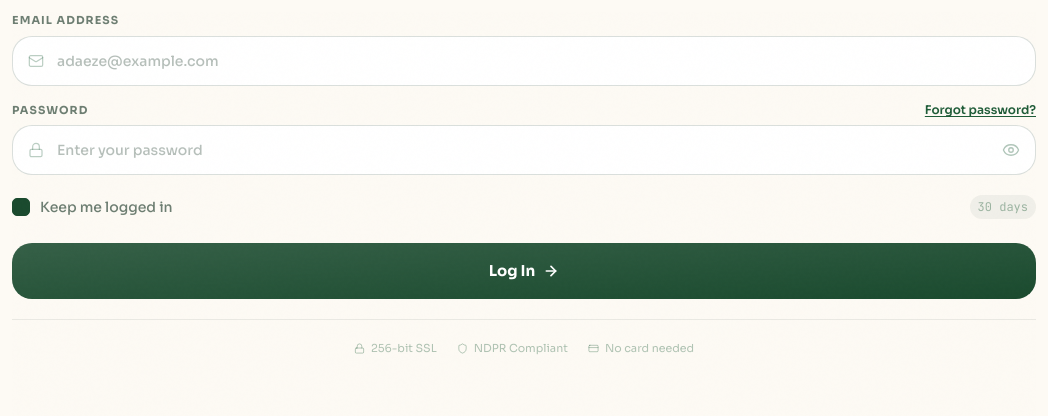
it: EmailLoginForm › Validation › shows email error when email format is invalid
The image size is (1048, 416).
In the field with placeholder "adaeze@example.com": (524, 61) [12, 36, 1036, 86], type "notanemail"
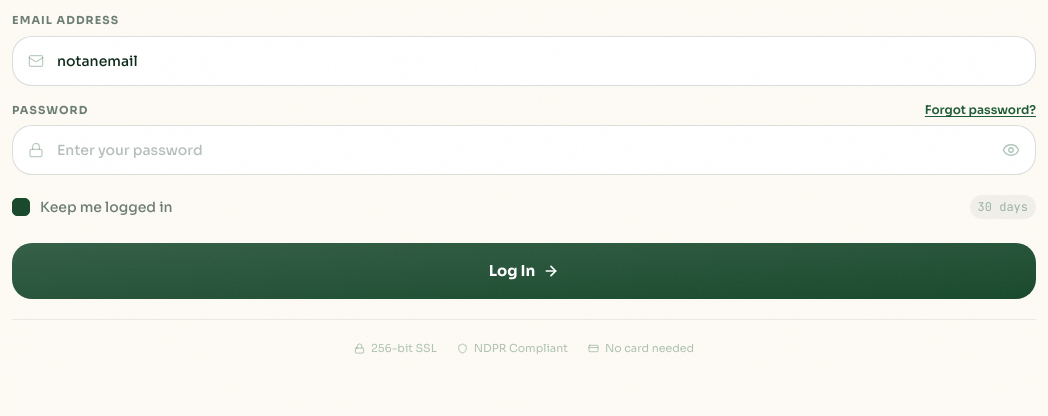
Submit the form "Log In"
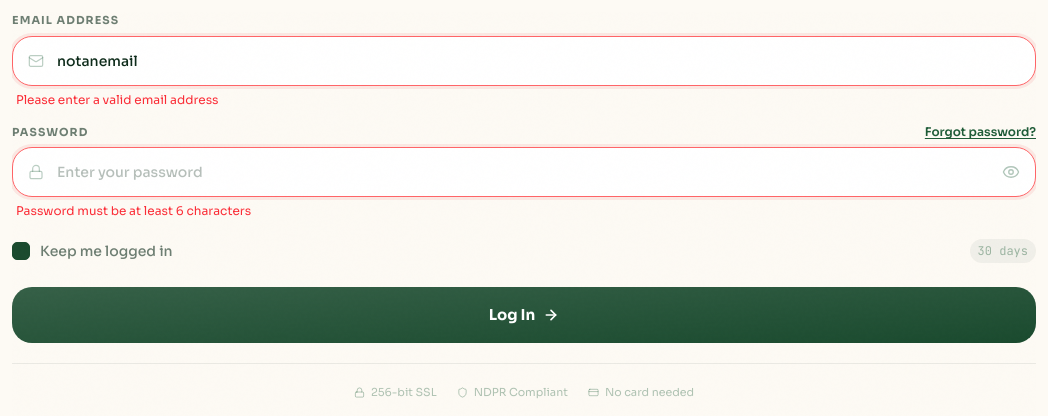
Expected: the text "Please enter a valid email address" is shown, [16, 92, 218, 107]
